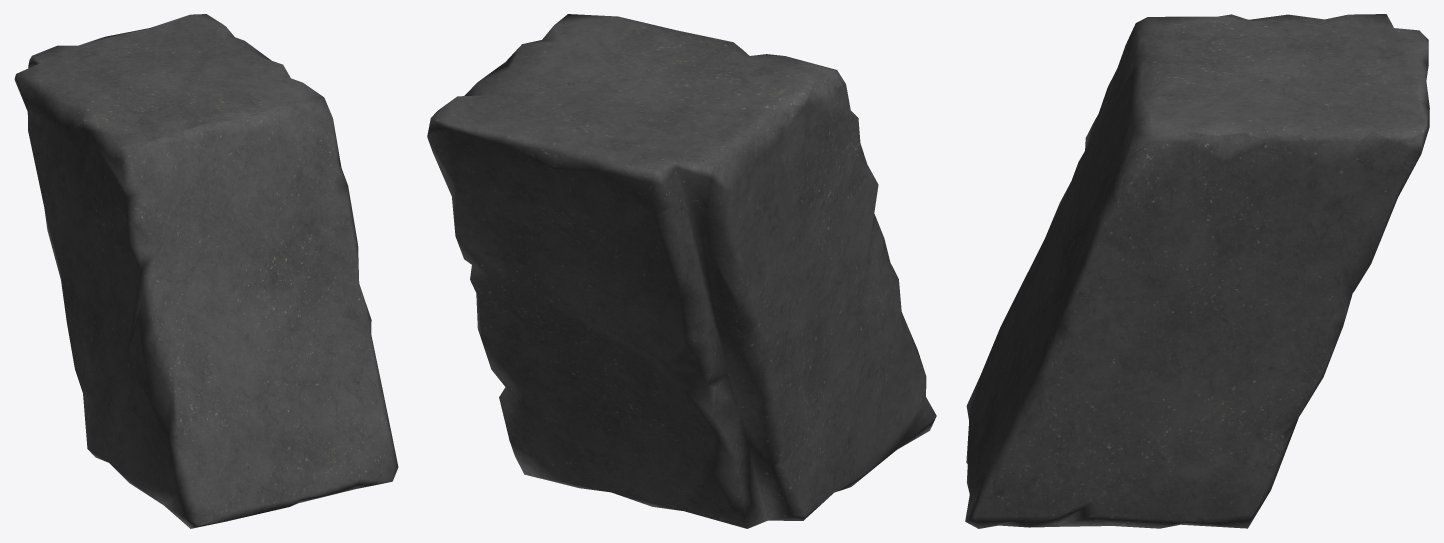
File: SM_ColumnSegmentAngled1.fbx
The picture shows the model from 3 angles, left to right: view 1: azimuth 30°, elevation 25°; view 2: azimuth 150°, elevation 25°; view 3: azimuth 270°, elevation 25°; orthographic projection. The views are drawn at different scales.
Parts seen in each view (by area): view 1: SM_ColumnSegmentAngled1_LOD0; view 2: SM_ColumnSegmentAngled1_LOD0; view 3: SM_ColumnSegmentAngled1_LOD0.
Part boxes in pixels (<box>): SM_ColumnSegmentAngled1_LOD0: <box>14,14,398,528</box>; SM_ColumnSegmentAngled1_LOD0: <box>427,14,936,528</box>; SM_ColumnSegmentAngled1_LOD0: <box>965,14,1429,528</box>.
Size of the model in its own units: 84.77 by 132 by 125.
1 material, 1 textured.
